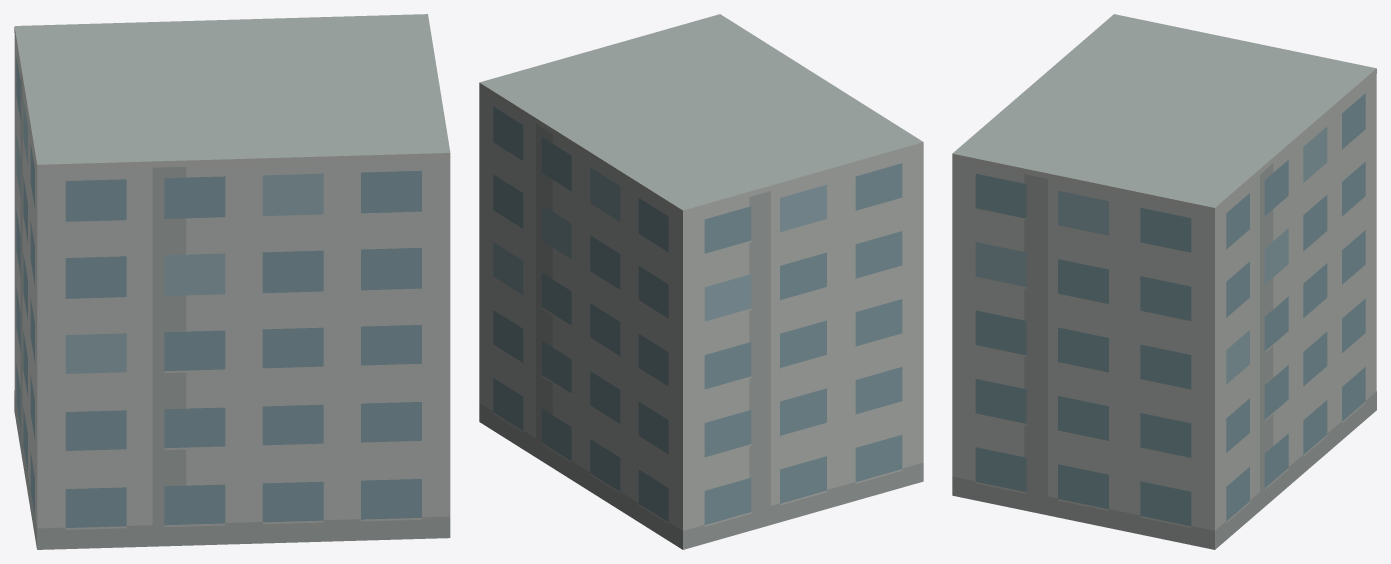
The model's file is residential-c463ee29-4e69-487b-b1f3-31162315b6d5.glb.
3 renders of one model, left to right at view 1: azimuth 30°, elevation 25°; view 2: azimuth 150°, elevation 25°; view 3: azimuth 270°, elevation 25°, orthographic. The views are drawn at different scales.
Visible parts, largest first — view 1: residential-c463ee29-4e69-487b-b1f3-31162315b6d5.tmp; view 2: residential-c463ee29-4e69-487b-b1f3-31162315b6d5.tmp; view 3: residential-c463ee29-4e69-487b-b1f3-31162315b6d5.tmp.
Part boxes in pixels (x1,y1,x2,y2): residential-c463ee29-4e69-487b-b1f3-31162315b6d5.tmp: (14, 14, 450, 549); residential-c463ee29-4e69-487b-b1f3-31162315b6d5.tmp: (479, 14, 923, 549); residential-c463ee29-4e69-487b-b1f3-31162315b6d5.tmp: (952, 14, 1376, 549).
Bounding box in the file's own units: 18.25 × 15 × 16.89.
